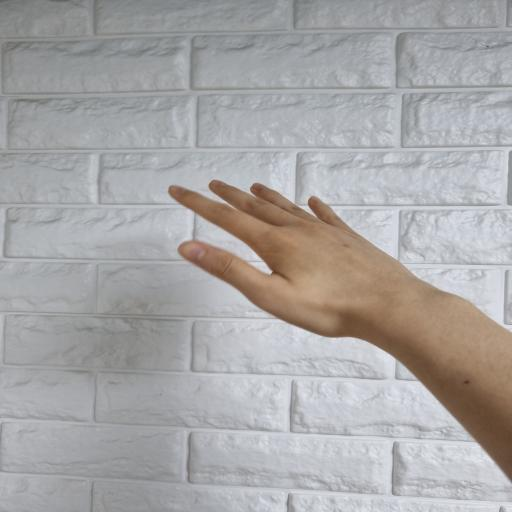Paper: (168, 179, 430, 349)
